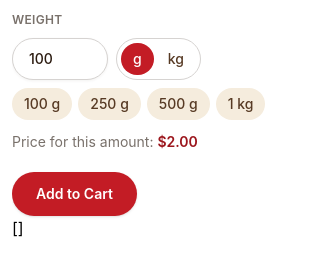
Scenario: AddToCartControl › rejects a negative weight
The image size is (332, 254).
Replace the text in the number field named "Weight" with "-5": (60, 59) 12,38 -> 108,80
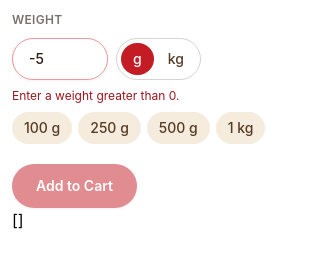
Check: the message "Enter a weight greater than 0." is shown, box 12,88 -> 180,103
Check: the button "Add to Cart" is disabled, box 12,164 -> 137,208
